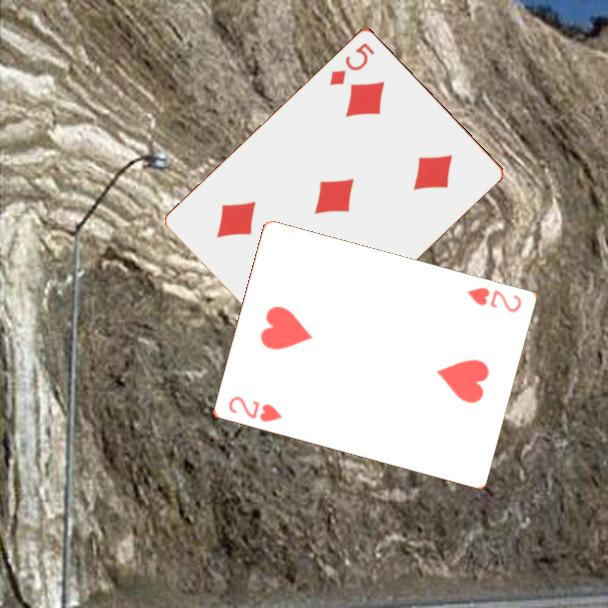d05: (326, 39, 377, 88)
h02: (224, 393, 285, 425), (463, 284, 524, 316)
